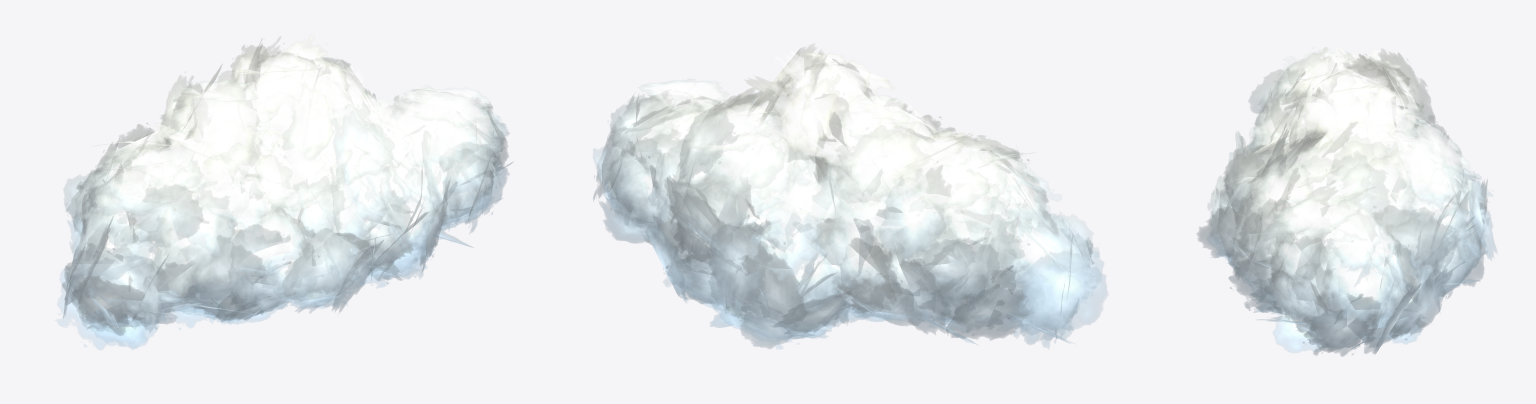
3 views of the same model, side by side, from view 1: azimuth 30°, elevation 25°; view 2: azimuth 150°, elevation 25°; view 3: azimuth 270°, elevation 25° (orthographic). The views are drawn at different scales.
Visible parts, largest first — view 1: Plane001; view 2: Plane001; view 3: Plane001.
Part boxes in pixels (box(x1,y1,x2,y2)): Plane001: box(55, 35, 512, 349); Plane001: box(593, 44, 1107, 349); Plane001: box(1197, 44, 1496, 356).
Bounding box in the file's own units: 9.97 × 5.59 × 6.02.
Materials: 1 (1 with a texture image).
